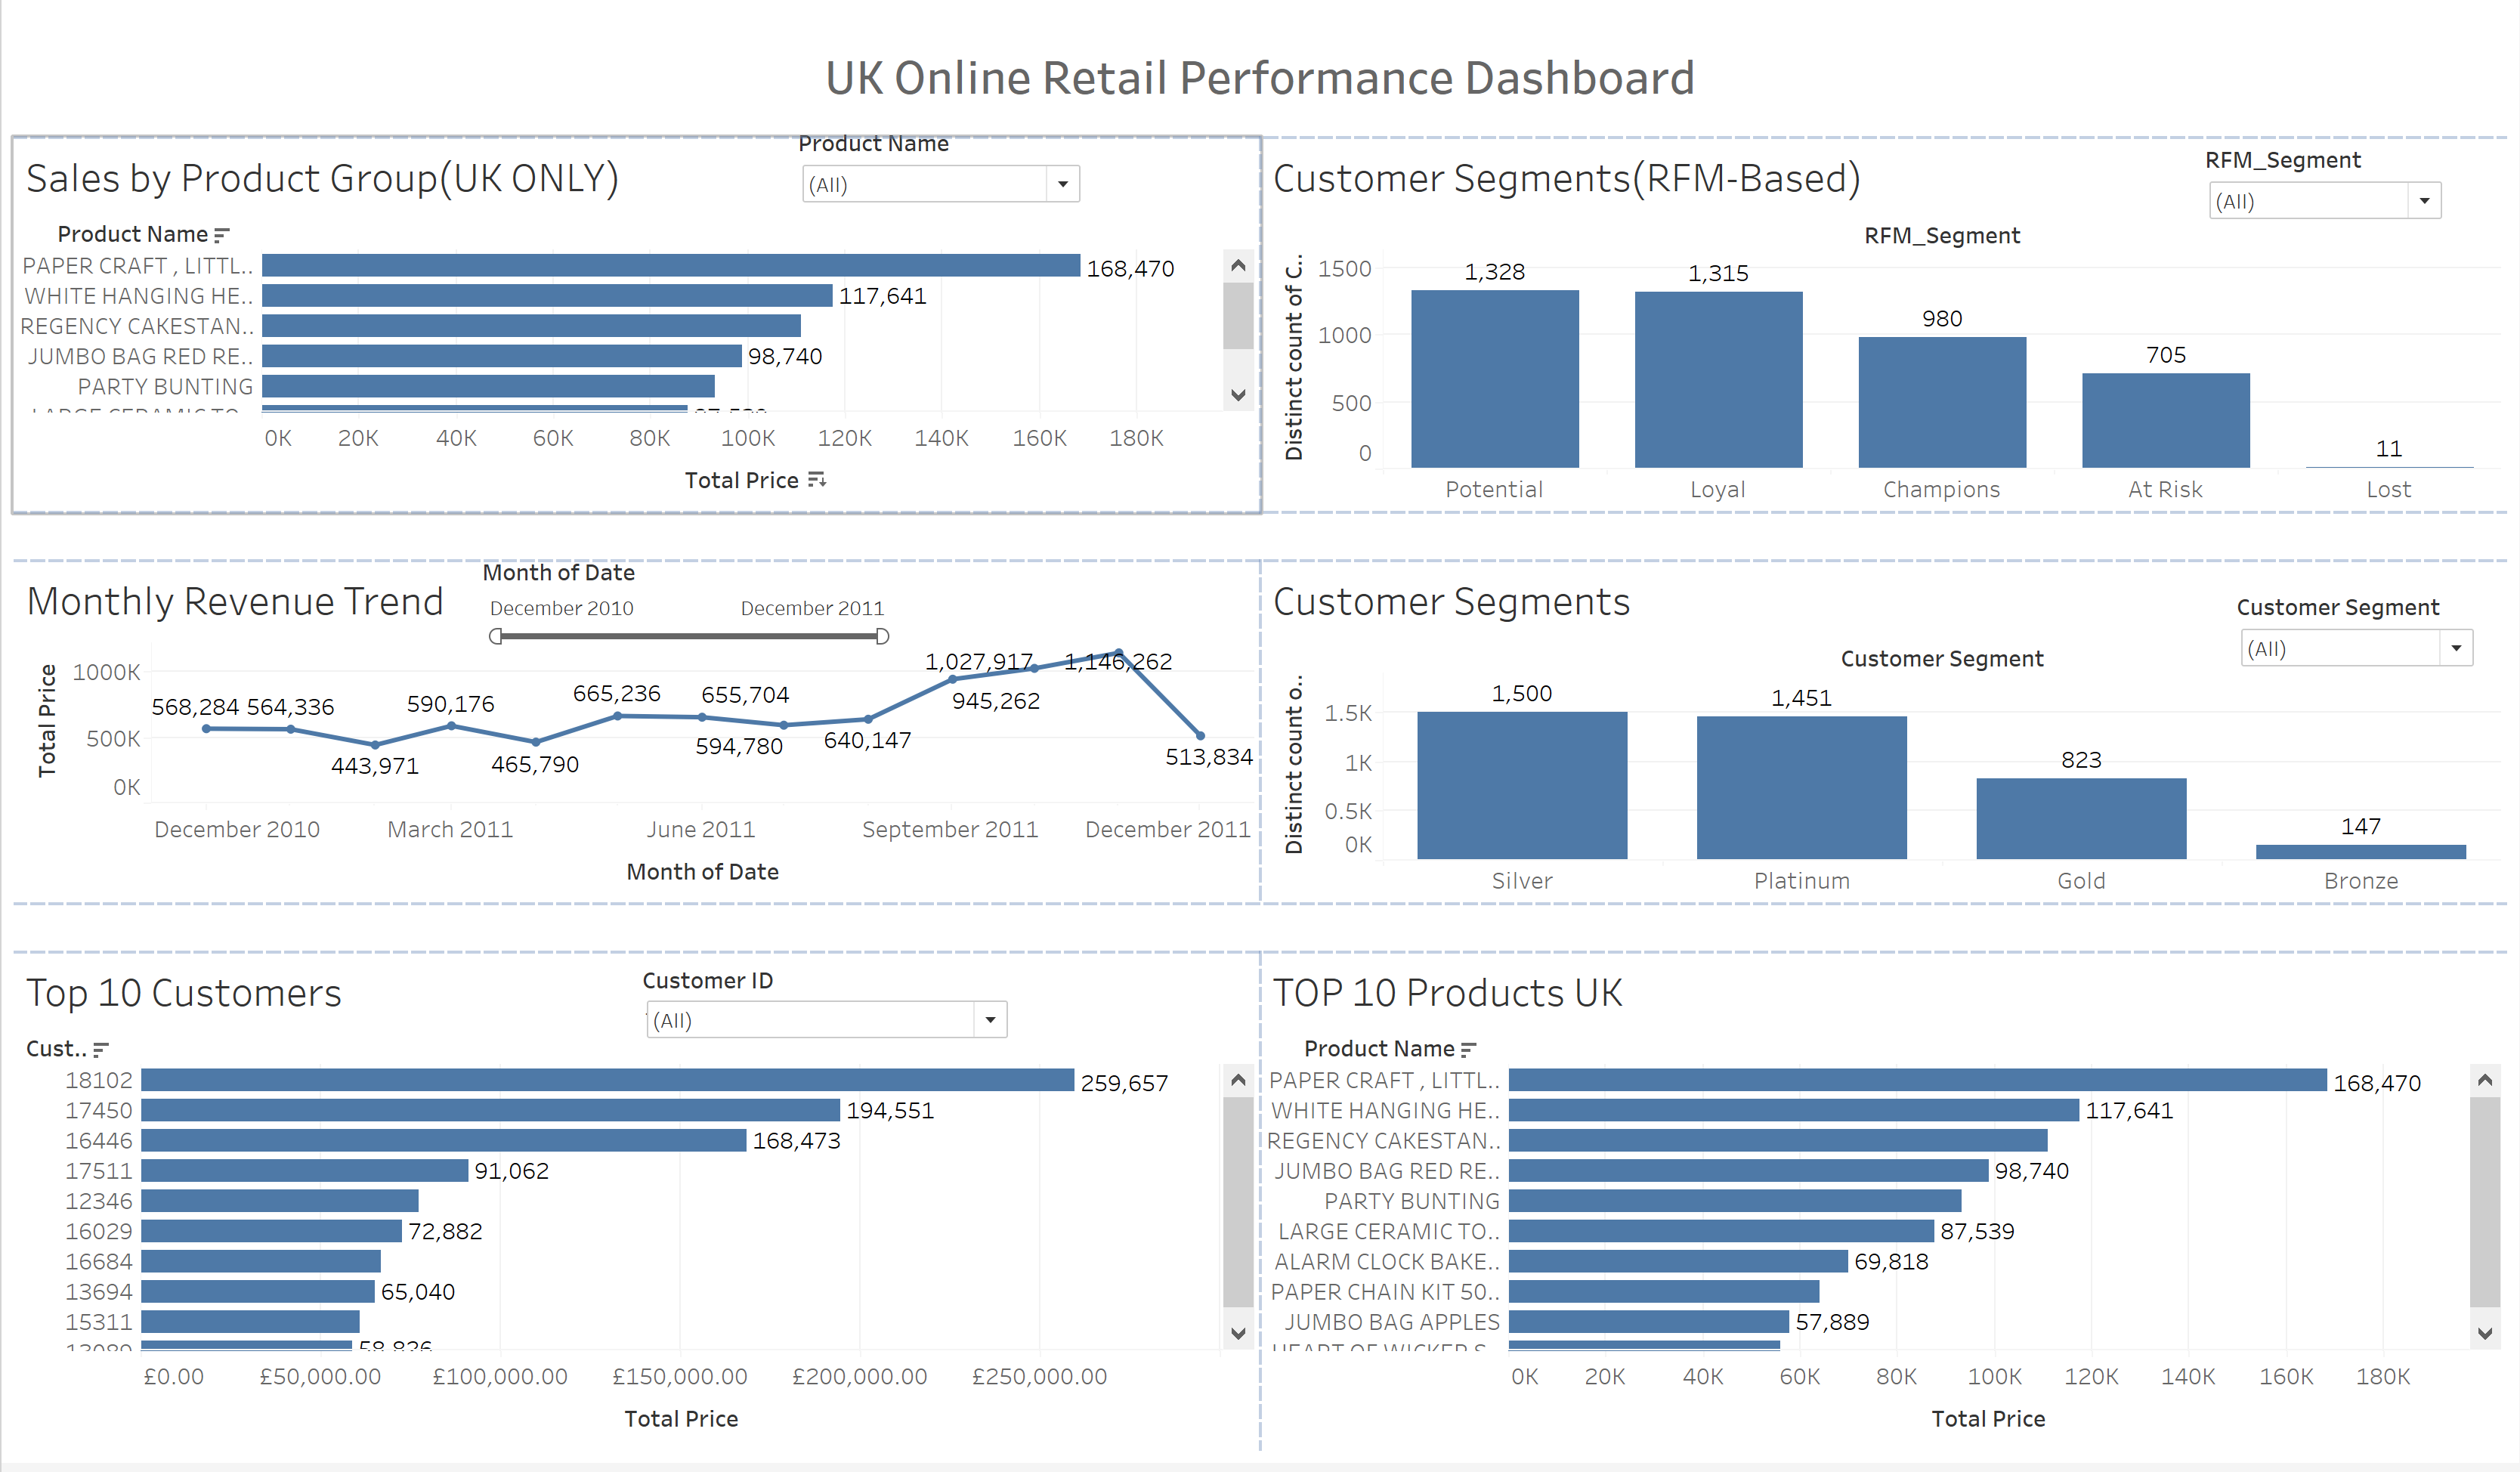

Layout of this report page (visuals, bound fields, positions):
{"tool":"tableau","page":{"name":"UK Online Retail Dashboard","canvas":[1666,968],"ordinal":0},"visuals":[{"type":"text","box":[8,8,1650,83]},{"type":"filter","title":"Sales by Product Group(UK ONLY)","param":"[federated.0ni9smz184yhp10zw1t8q1ug2cp7].[none:ProductName:nk]","box":[527,84,190,57]},{"type":"worksheet","title":"Sales by Product Group(UK ONLY)","mark":"Automatic","rows":["ProductName"],"cols":["Total Price"],"box":[8,91,824.9,248]},{"type":"worksheet","title":"Customer Segments(RFM-Based)","mark":"Automatic","rows":["CustomerID"],"cols":["Calculation_1868993889920897037"],"box":[832.9,91,825.1,248]},{"type":"filter","title":"Customer Segments(RFM-Based)","param":"[federated.097lwdw0v5r19e1gixg1j1mt9i09].[none:Calculation_1868993889920897037:n","box":[1458,95,160,53]},{"type":"blank","box":[8,339,1650,32]},{"type":"filter","title":"Monthly Revenue Trend","param":"[federated.097lwdw0v5r19e1gixg1j1mt9i09].[tmn:Date:qk]","box":[318,368,274,67]},{"type":"worksheet","title":"Monthly Revenue Trend","mark":"Automatic","rows":["Total Price"],"cols":["Date"],"box":[8,371,825,227]},{"type":"worksheet","title":"Customer Segments","mark":"Automatic","rows":["CustomerID"],"cols":["Calculation_1868993889903849473"],"box":[833,371,825,227]},{"type":"filter","title":"Customer Segments","param":"[federated.0ni9smz184yhp10zw1t8q1ug2cp7].[none:Calculation_1868993889903849473:n","box":[1479,391,160,53]},{"type":"blank","box":[8,598,1650,32]},{"type":"worksheet","title":"Top 10 Customers","mark":"Automatic","rows":["CustomerID"],"cols":["Total Price"],"box":[8,630,825,330]},{"type":"worksheet","title":"Top 10 UK Products","mark":"Automatic","rows":["ProductName"],"cols":["Total Price"],"box":[833,630,825,330]},{"type":"filter","title":"Top 10 Customers","param":"[federated.0ni9smz184yhp10zw1t8q1ug2cp7].[none:CustomerID:ok]","box":[424,638,245,52]}]}

Visuals, with their boxes in screenshot pixels (x1, y1, x2, y2), scaled from the page's 1666x968 canvas onto the 2520x1472 screenshot:
text: bbox(12, 12, 2508, 138)
"Sales by Product Group(UK ONLY)" filter: bbox(797, 128, 1084, 215)
"Sales by Product Group(UK ONLY)" worksheet: bbox(12, 138, 1260, 515)
"Customer Segments(RFM-Based)" worksheet: bbox(1260, 138, 2508, 515)
"Customer Segments(RFM-Based)" filter: bbox(2206, 144, 2447, 225)
blank: bbox(12, 515, 2508, 564)
"Monthly Revenue Trend" filter: bbox(481, 560, 895, 661)
"Monthly Revenue Trend" worksheet: bbox(12, 564, 1260, 909)
"Customer Segments" worksheet: bbox(1260, 564, 2508, 909)
"Customer Segments" filter: bbox(2237, 595, 2479, 676)
blank: bbox(12, 909, 2508, 958)
"Top 10 Customers" worksheet: bbox(12, 958, 1260, 1460)
"Top 10 UK Products" worksheet: bbox(1260, 958, 2508, 1460)
"Top 10 Customers" filter: bbox(642, 970, 1012, 1050)
